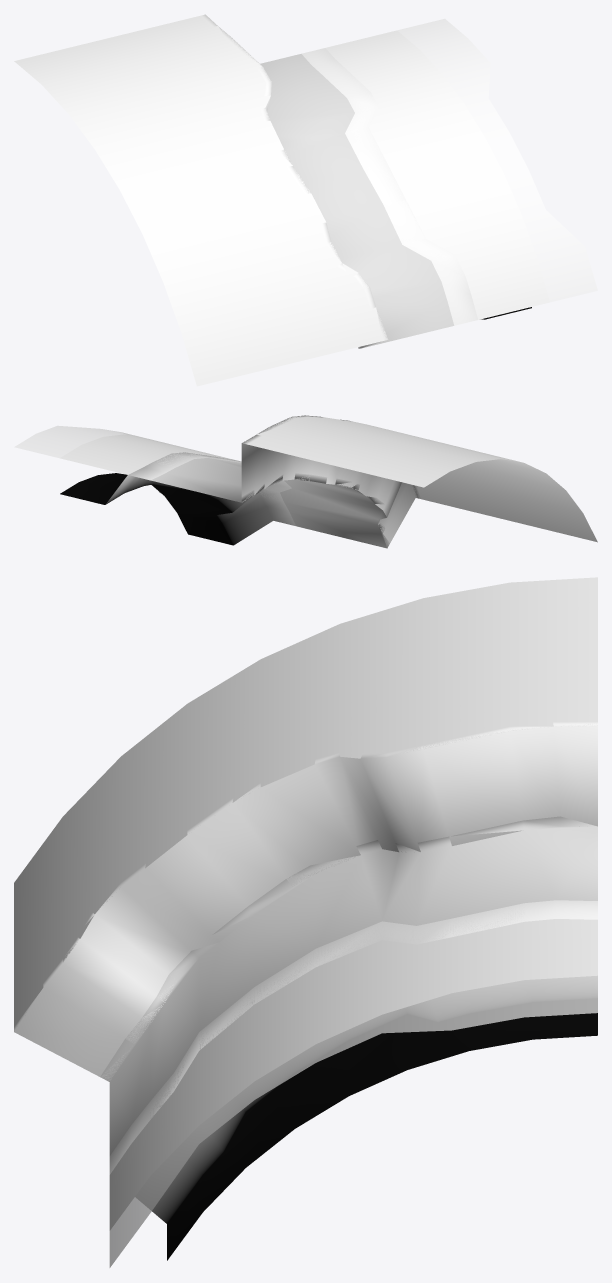
The model's file is grd_Me_2.dae.
The picture shows the model from 3 angles, top to bottom: view 1: azimuth 30°, elevation 25°; view 2: azimuth 150°, elevation 25°; view 3: azimuth 270°, elevation 25°; orthographic projection. The views are drawn at different scales.
Visible parts, largest first — view 1: grass_3_0, ocean_4_0, beach_0_0, wave_5_0, beach_1_0, cliff_2_0; view 2: grass_3_0, beach_0_0, beach_1_0, cliff_2_0, ocean_4_0, wave_5_0; view 3: grass_3_0, cliff_2_0, beach_0_0, beach_1_0, ocean_4_0, wave_5_0.
Boxes of the visible parts, bbox=[...] form: grass_3_0: bbox=[14, 16, 387, 386]; ocean_4_0: bbox=[325, 30, 549, 319]; beach_0_0: bbox=[260, 54, 454, 348]; wave_5_0: bbox=[324, 18, 597, 302]; beach_1_0: bbox=[301, 48, 531, 325]; cliff_2_0: bbox=[200, 14, 388, 348]; grass_3_0: bbox=[245, 415, 597, 542]; beach_0_0: bbox=[151, 458, 389, 548]; beach_1_0: bbox=[60, 452, 295, 545]; cliff_2_0: bbox=[241, 415, 421, 542]; ocean_4_0: bbox=[60, 434, 235, 474]; wave_5_0: bbox=[14, 425, 290, 500]; grass_3_0: bbox=[14, 577, 597, 1026]; cliff_2_0: bbox=[14, 722, 597, 1080]; beach_0_0: bbox=[100, 816, 597, 1155]; beach_1_0: bbox=[109, 900, 597, 1260]; ocean_4_0: bbox=[109, 919, 597, 1230]; wave_5_0: bbox=[109, 903, 597, 1267].
Size of the model in its own units: 576 by 308 by 423.
Materials: 6 (1 with a texture image).
